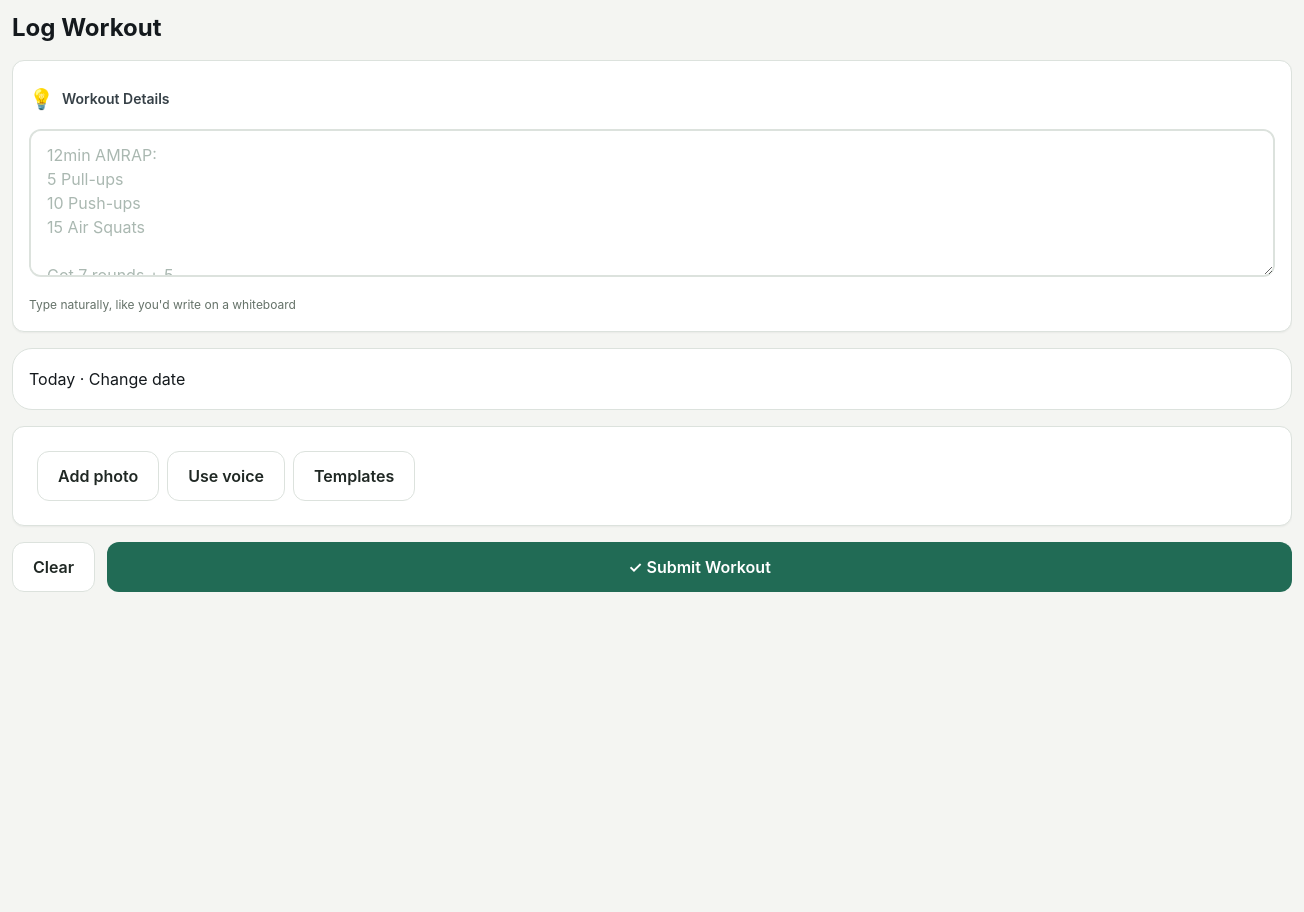
Test: preserves editable workout text when canonical save fails
Replace the text in the text box with "Grace 9:47 Rx" at [652, 203], box [29, 129, 1275, 277]
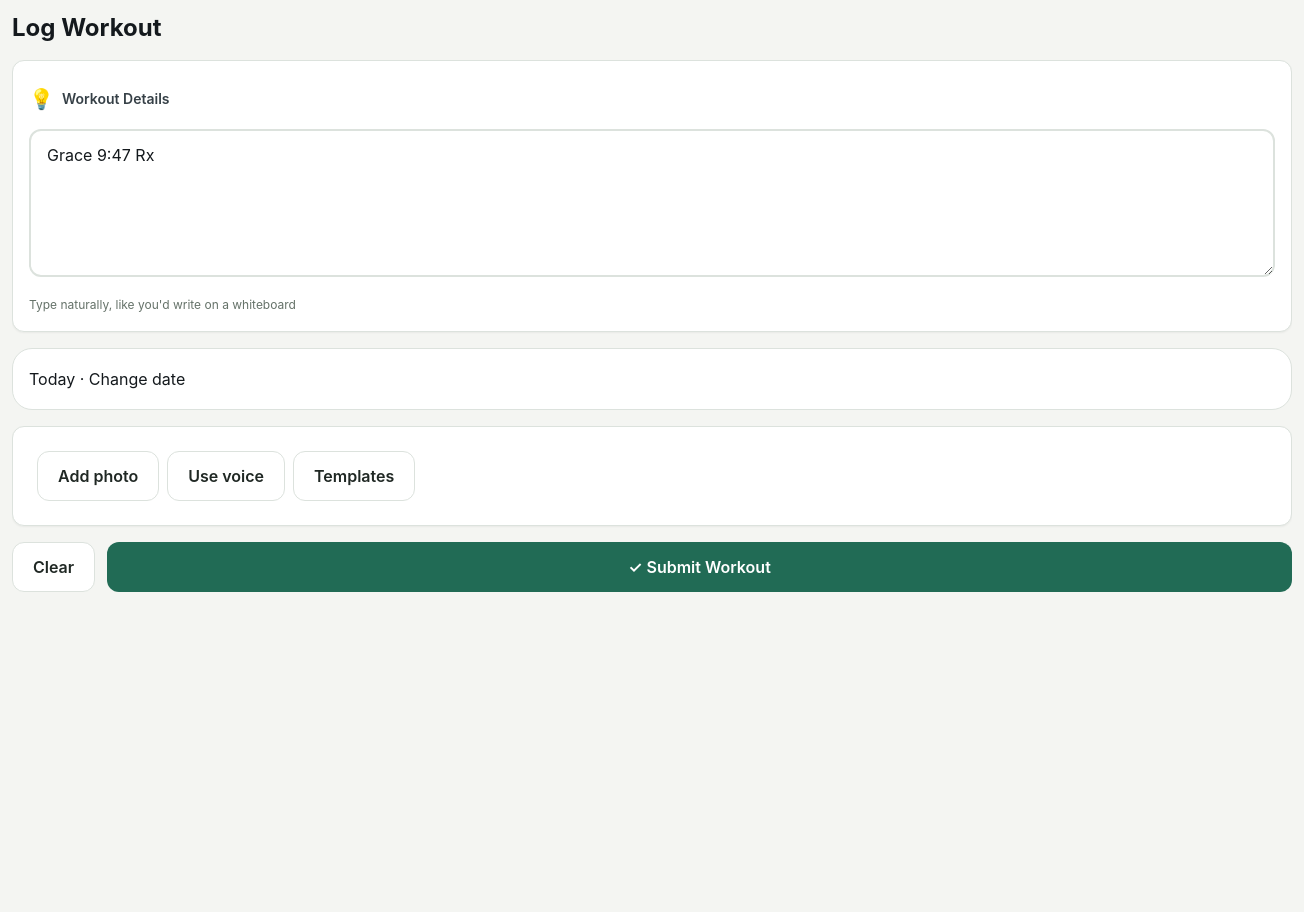
Click the button "✓ Submit Workout" at [700, 566], box [107, 542, 1292, 592]
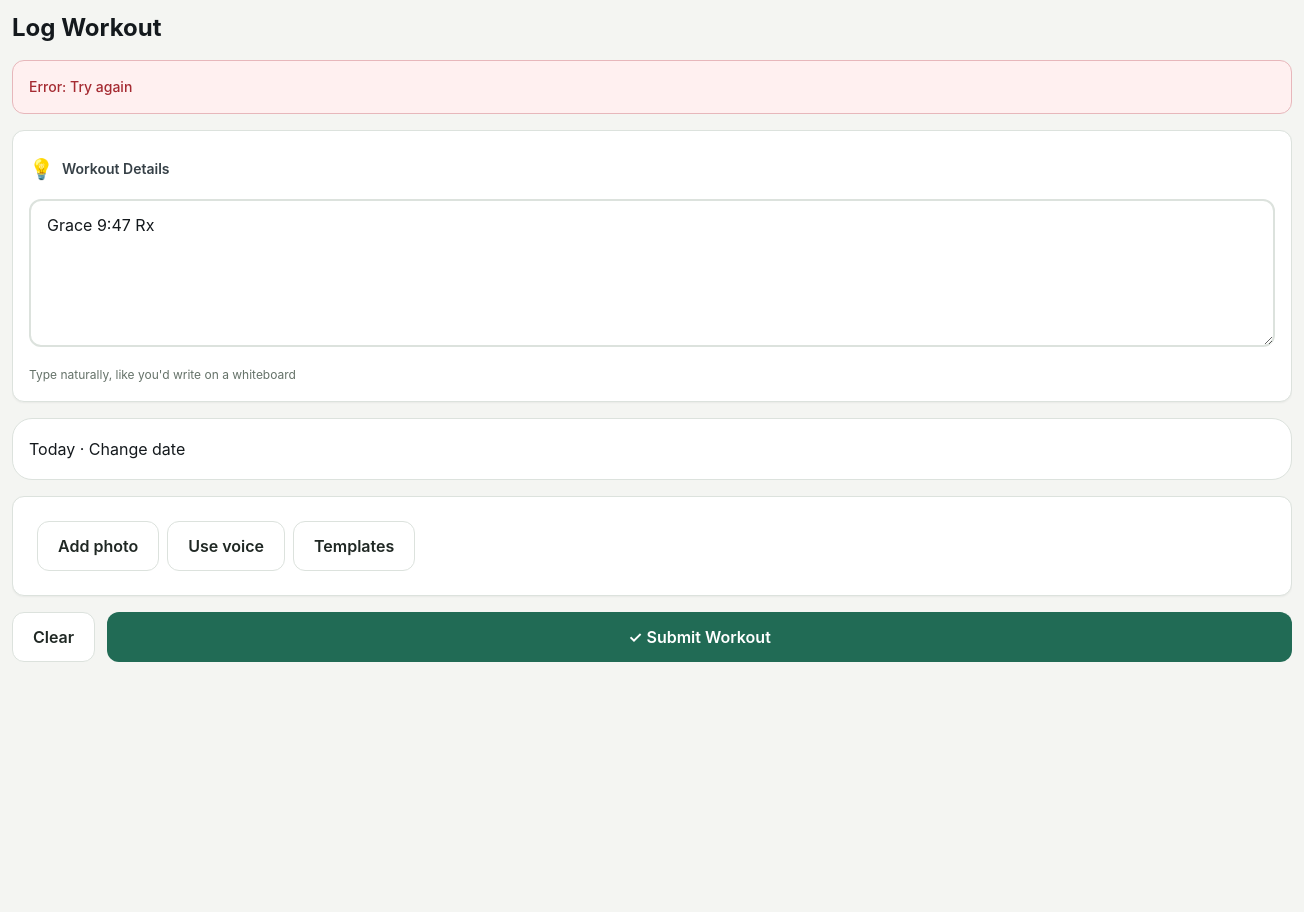
Now the text "Error: Try again" is shown, box [12, 60, 1292, 114]
